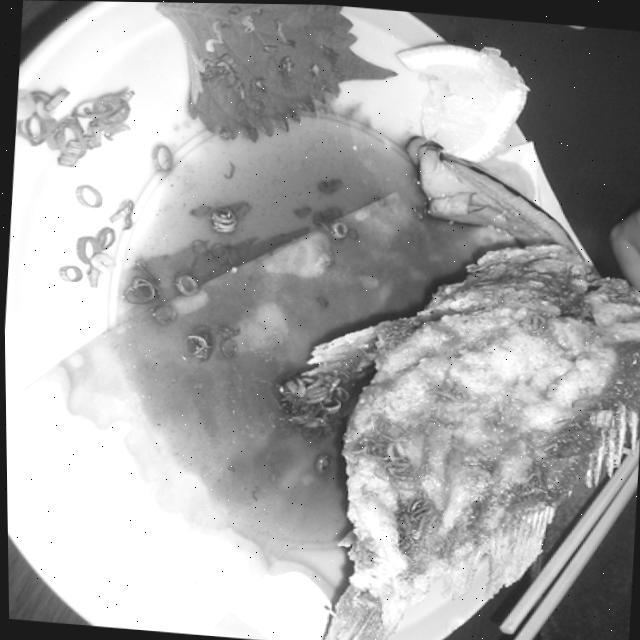炸货点心: (293, 200, 640, 640)
熟制海鲜: (293, 200, 640, 640)
